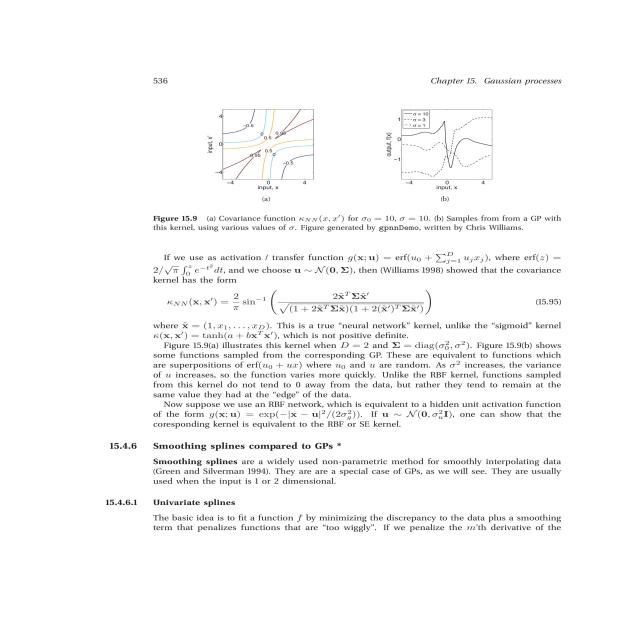diagram: (100, 105, 612, 252)
